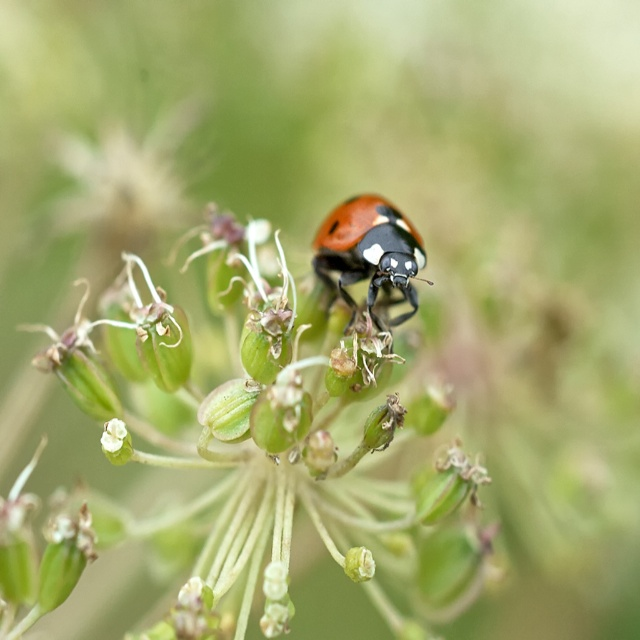Ladybug: (309, 194, 435, 334)
